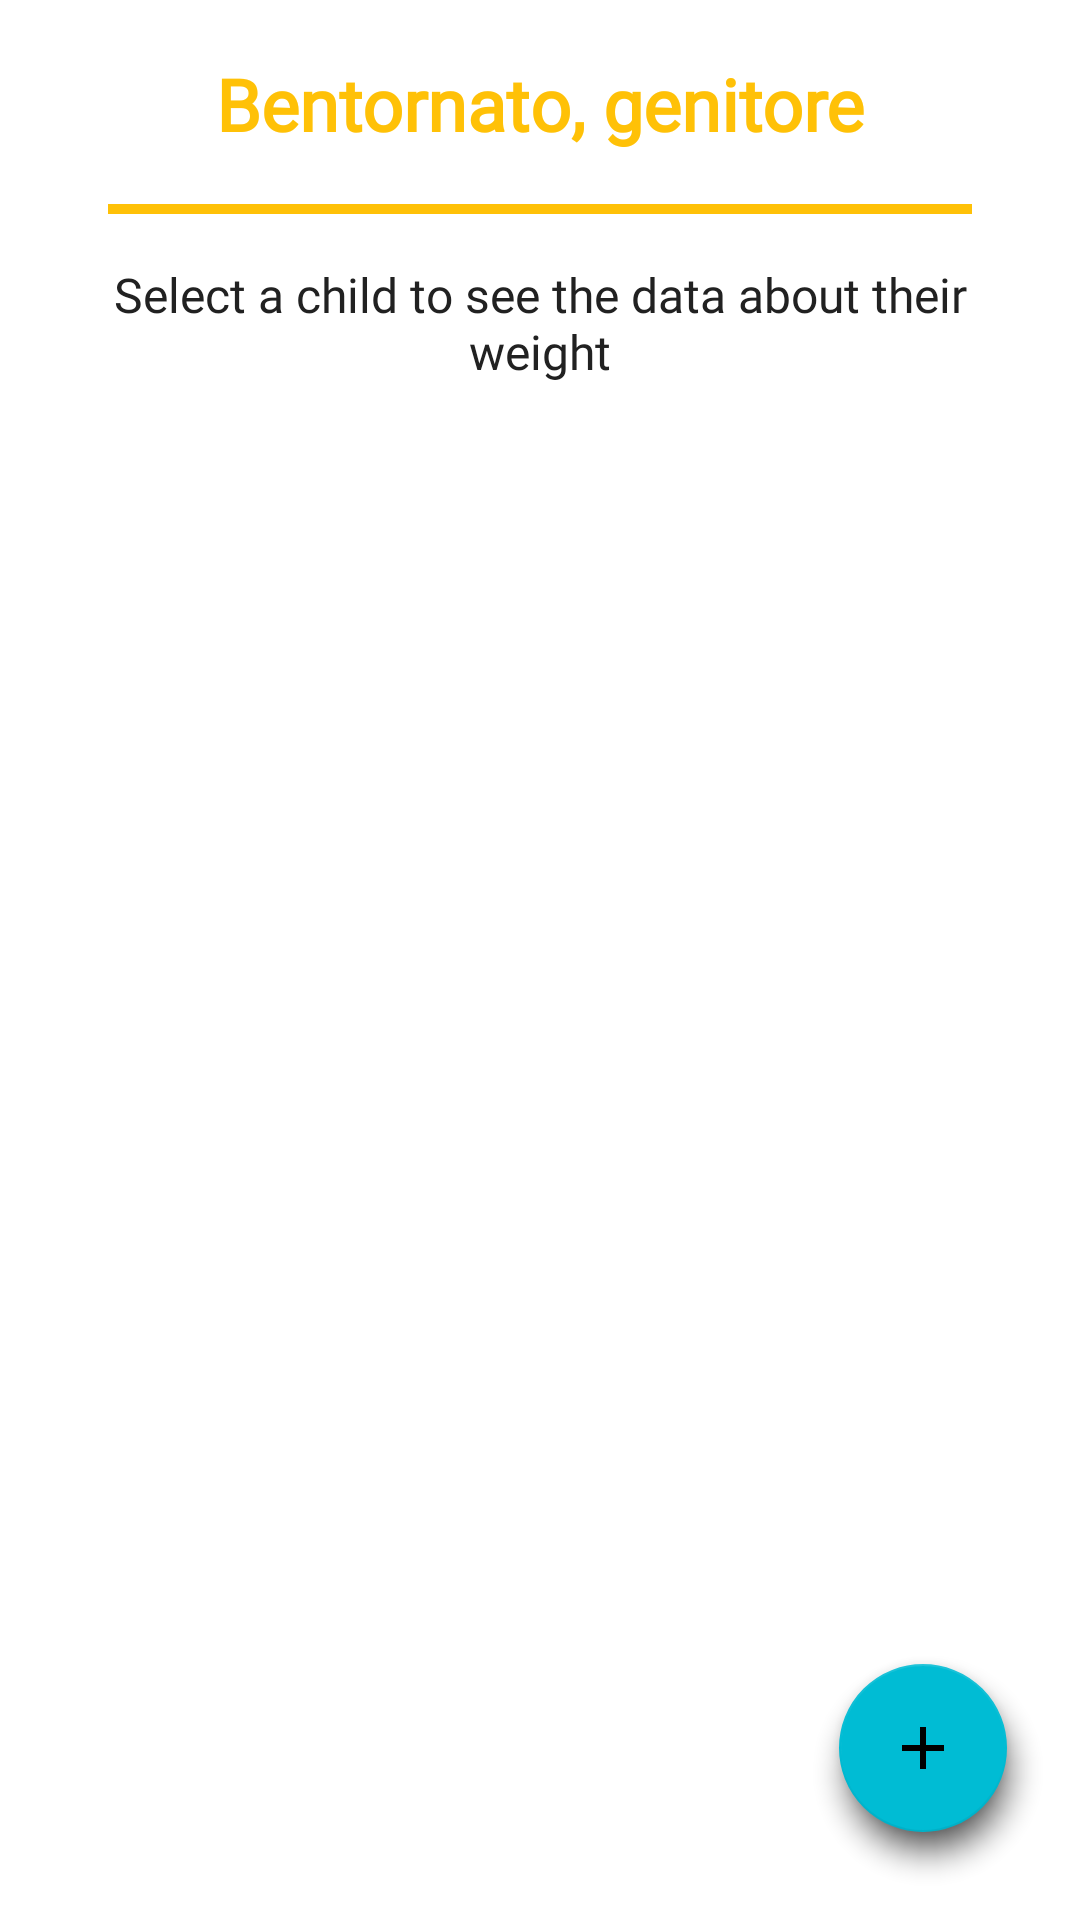

Icon click points for this 1080 × 1920 phone screenshot, format [x,y]:
add: [923,1748]
